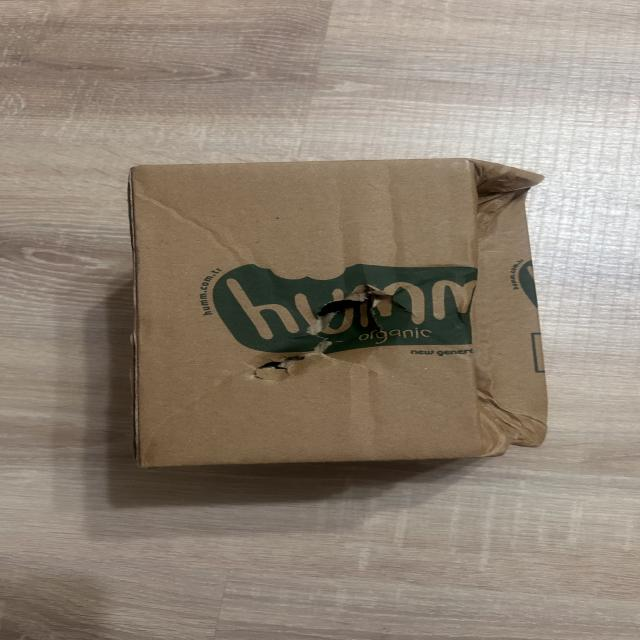damaged: (110, 152, 569, 482), (452, 152, 564, 460), (245, 290, 398, 390)
